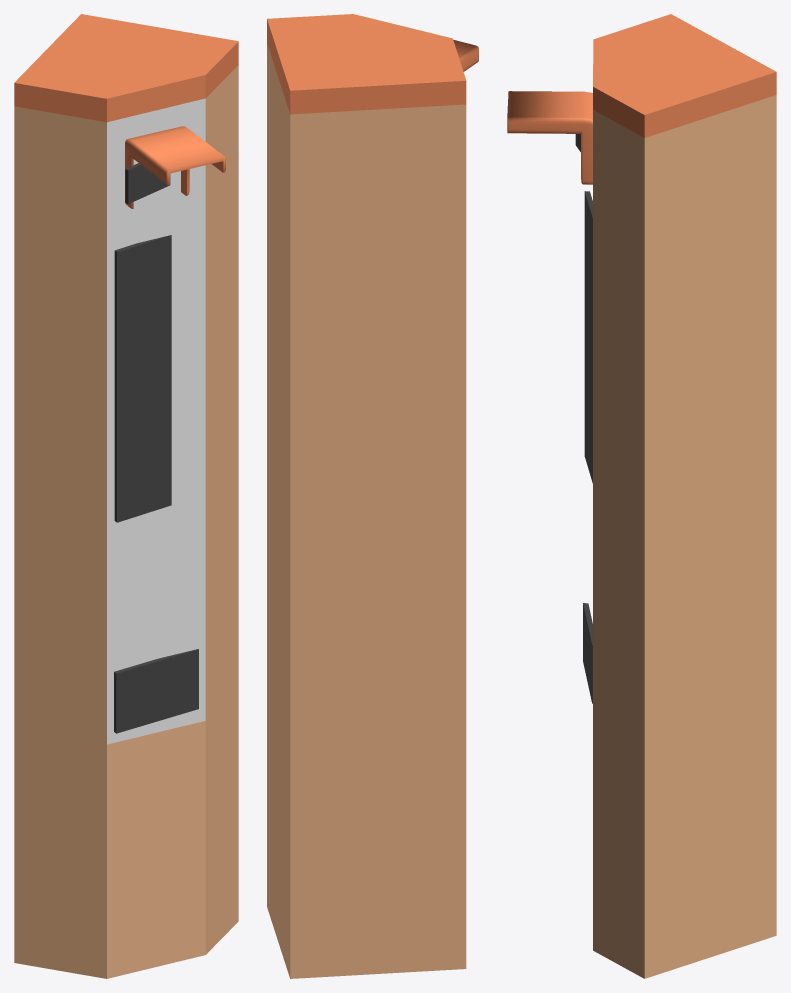
3 renders of one model, left to right at view 1: azimuth 30°, elevation 25°; view 2: azimuth 150°, elevation 25°; view 3: azimuth 270°, elevation 25°, orthographic. The views are drawn at different scales.
Parts seen in each view (by area): view 1: Box296, 对象415, Box297, 对象417, 对象418, 对象416; view 2: Box296, Box297; view 3: Box296, Box297, 对象417, 对象418.
Part boxes in pixels (x1=…): Box296: x1=14, y1=65, x2=238, y2=978; 对象415: x1=107, y1=98, x2=205, y2=744; Box297: x1=14, y1=14, x2=238, y2=208; 对象417: x1=114, y1=235, x2=171, y2=522; 对象418: x1=114, y1=649, x2=198, y2=733; 对象416: x1=125, y1=163, x2=170, y2=204; Box296: x1=267, y1=43, x2=466, y2=978; Box297: x1=267, y1=14, x2=478, y2=114; Box296: x1=593, y1=95, x2=776, y2=978; Box297: x1=507, y1=14, x2=776, y2=184; 对象417: x1=584, y1=191, x2=592, y2=483; 对象418: x1=583, y1=603, x2=592, y2=703.
Size of the model in its own units: 1.41 by 5.61 by 1.59.
